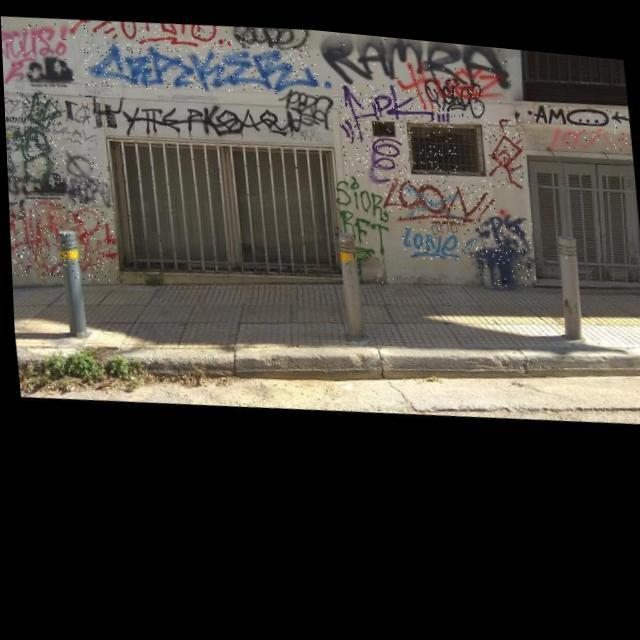-: (81, 27, 332, 103), (63, 80, 316, 150), (336, 70, 458, 184), (317, 24, 512, 91), (7, 193, 118, 285), (68, 9, 234, 53), (330, 166, 394, 280), (380, 162, 497, 222), (396, 48, 504, 112), (1, 16, 74, 90), (472, 200, 536, 280), (17, 91, 65, 183), (398, 214, 482, 257), (481, 106, 527, 181), (526, 88, 630, 121), (58, 147, 110, 205), (276, 78, 336, 127), (423, 66, 485, 112), (549, 110, 632, 142), (234, 18, 312, 50), (6, 165, 23, 201)
